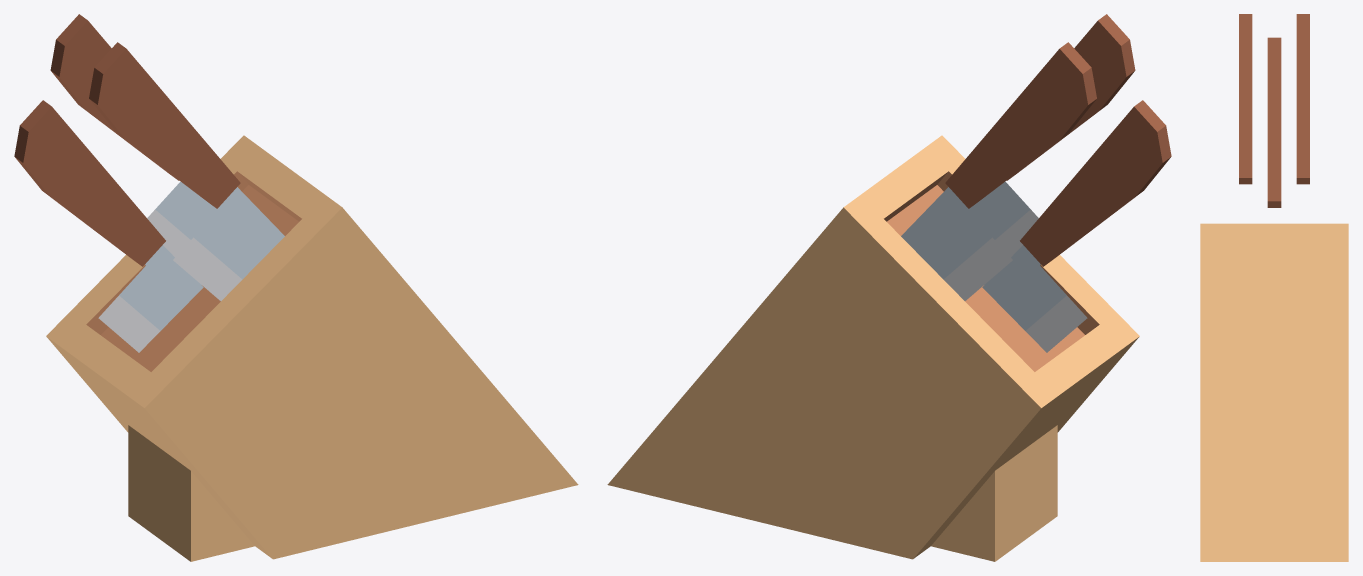
File: knifeBlock.obj
The picture shows the model from 3 angles, left to right: view 1: azimuth 30°, elevation 25°; view 2: azimuth 150°, elevation 25°; view 3: azimuth 270°, elevation 25°; orthographic projection. The views are drawn at different scales.
Visible parts, largest first — view 1: knifeBlock, cookingKnife; view 2: knifeBlock, cookingKnife; view 3: knifeBlock, cookingKnife.
Boxes of the visible parts, x1=… form: knifeBlock: x1=46, y1=135, x2=578, y2=561; cookingKnife: x1=14, y1=14, x2=284, y2=352; knifeBlock: x1=607, y1=135, x2=1139, y2=561; cookingKnife: x1=901, y1=14, x2=1171, y2=352; knifeBlock: x1=1200, y1=223, x2=1348, y2=561; cookingKnife: x1=1239, y1=14, x2=1309, y2=207.
Size of the model in its own units: 0.6628 by 0.6472 by 0.2218.
